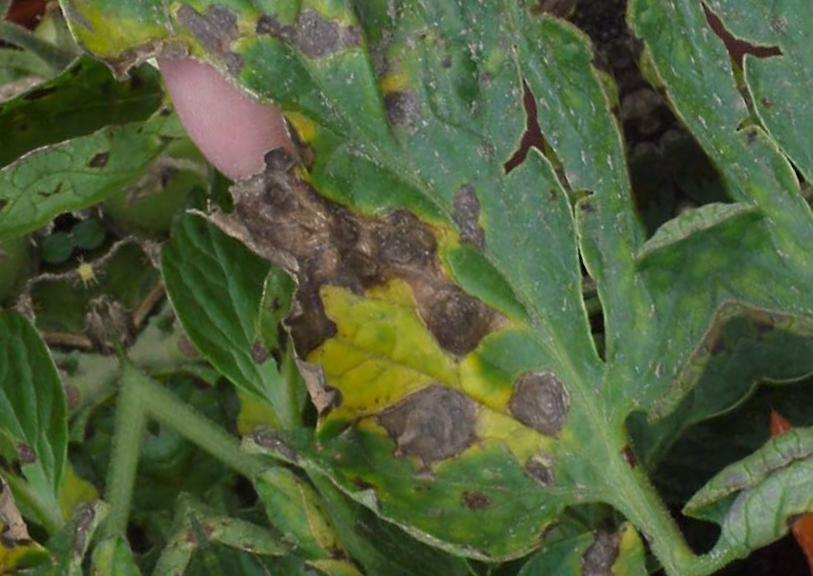Tomato Early blight leaf: (98, 0, 787, 576)
